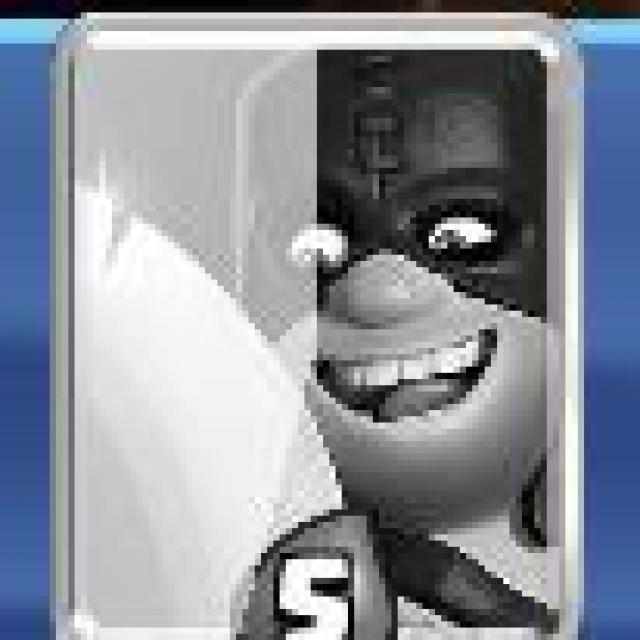Executioner: (49, 11, 589, 640)
